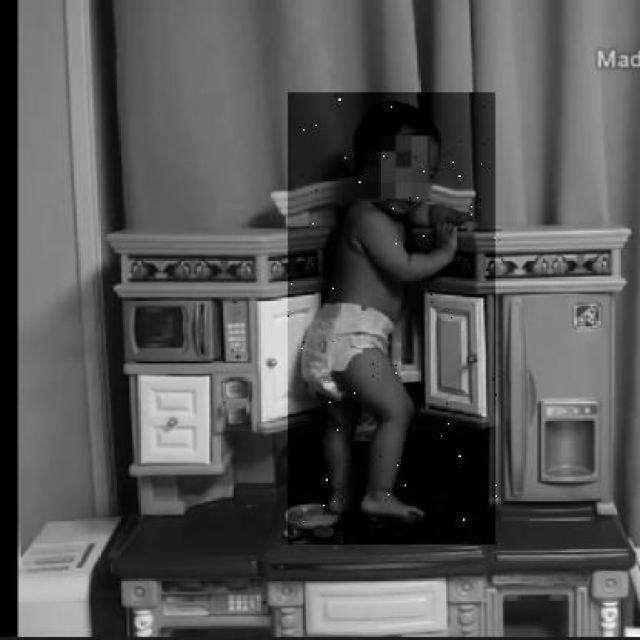child: (289, 92, 498, 544)
